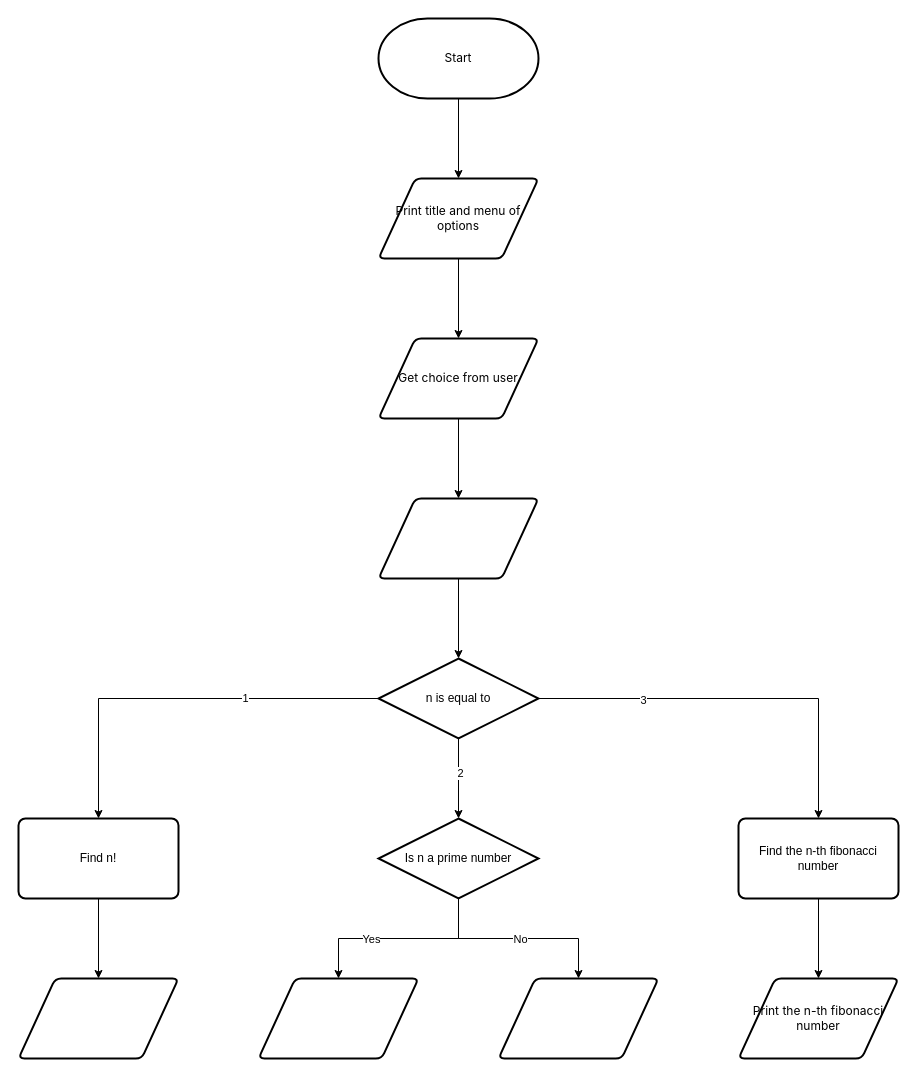
Image size: 916x1076. Some labels were removed from this diagram. Each missing label, with the centre of its shape:
"Get 'n' from user" goes at pixel 458 538.
"Print n is a prime number" goes at pixel 338 1018.
"Print n is not a prime number" goes at pixel 578 1018.
"Print n!" goes at pixel 98 1018.
